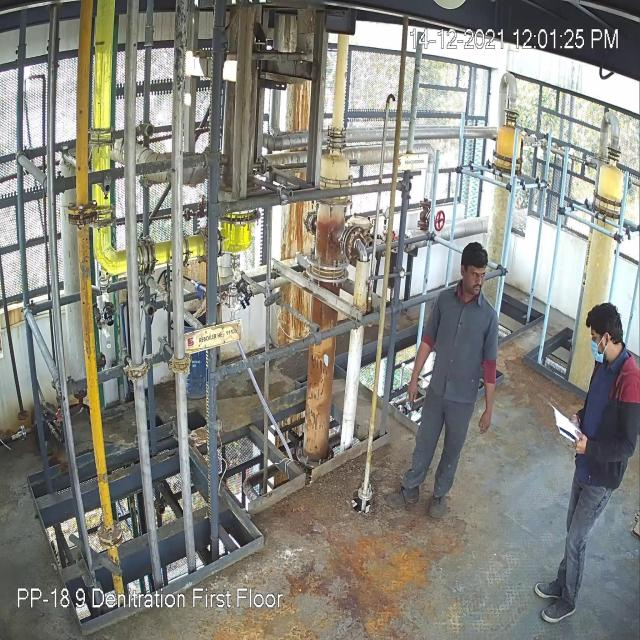No_Gloves: (21, 59, 487, 410)
